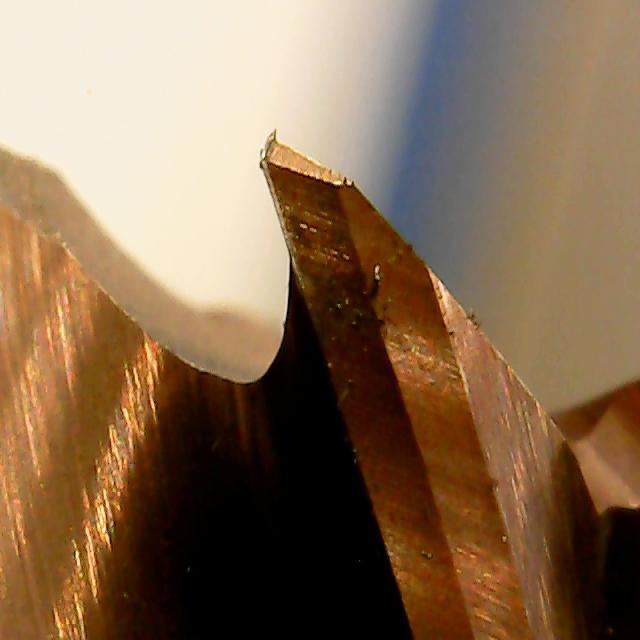Tool-wear-class-1: (243, 122, 433, 382)
